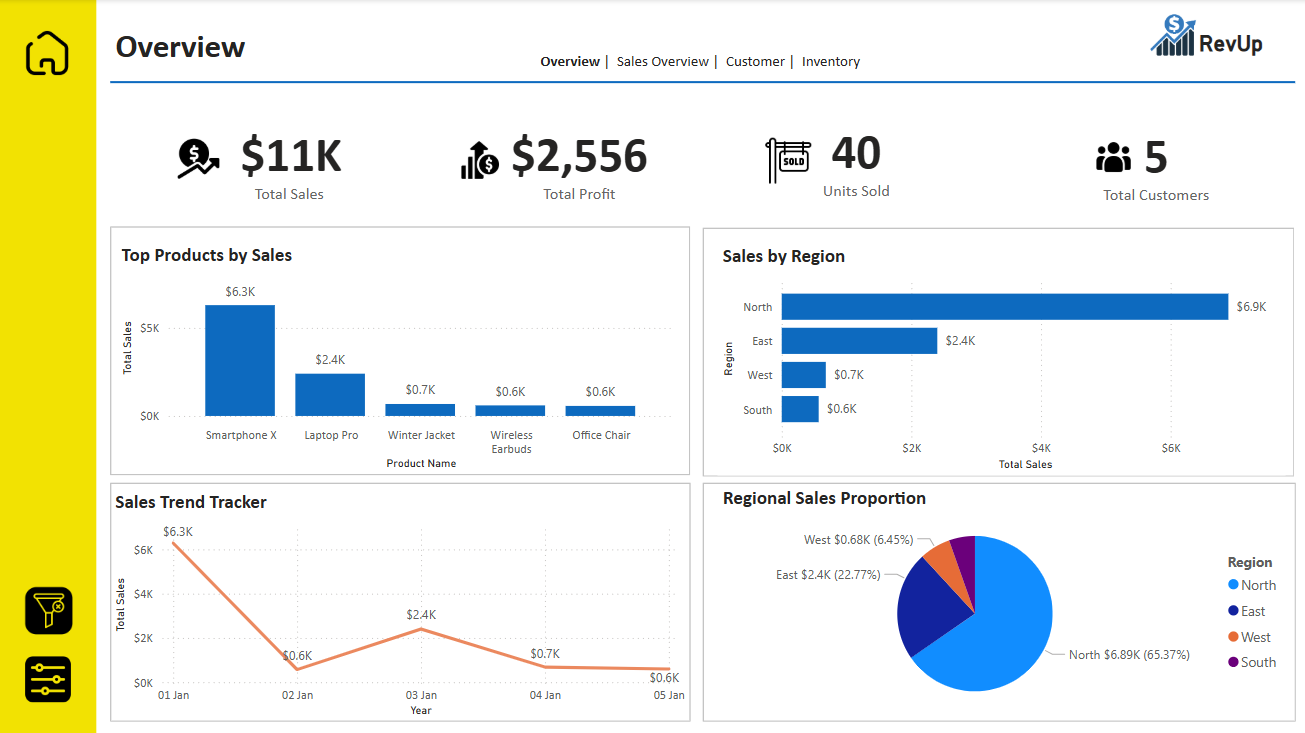

The dashboard page shown, as its layout file describes it:
{"tool":"powerbi","page":{"name":"Overview","canvas":[1280,720],"ordinal":1},"visuals":[{"type":"shape","box":[0,0,95.4,720.2],"z":0},{"type":"image","box":[1016.5,0,264.1,70.9],"z":0,"group":"g1"},{"type":"image","box":[20.9,23.7,52.9,58.4],"z":1000},{"type":"textbox","box":[1169.3,25.7,99,45.2],"z":1000,"group":"g1"},{"type":"textbox","box":[109.1,22,167.5,48.9],"z":2000,"group":"g1"},{"type":"image","box":[18.1,638.6,58.4,54.3],"z":2000},{"type":"group","id":"g1","title":"Visuals","box":[108.8,0,1171.8,706.8],"z":3000},{"type":"shape","box":[109.1,58.7,1159.2,45.2],"z":3000,"group":"g1"},{"type":"card","fields":{"Values":["Sales Data.Total Sales Measure"]},"box":[197.4,102.2,178.4,110.8],"z":4000,"group":"g1"},{"type":"image","box":[170.2,97,50.2,117.8],"z":5000,"group":"g1"},{"type":"image","box":[19,559.3,58.9,79.7],"z":5000},{"type":"card","fields":{"Values":["Sales Data.Profit"]},"box":[465.8,102.7,204.2,111.3],"z":6000,"group":"g1"},{"type":"card","fields":{"Values":["Sum(Sales Data.Units Sold)"]},"box":[722.9,100.3,232.3,110.1],"z":7000,"group":"g1"},{"type":"card","fields":{"Values":["Customer Data.Total Customers"]},"box":[1016.5,103.9,232.3,110.1],"z":8000,"group":"g1"},{"type":"image","box":[447.3,103.9,46.8,107.4],"z":9000,"group":"g1"},{"type":"image","box":[1069,100.4,43.3,109.1],"z":10000,"group":"g1"},{"type":"image","box":[738.2,91.8,67.5,133.3],"z":11000,"group":"g1"},{"type":"columnChart","title":"Top Products by Sales","fields":{"Category":["Sales Data.Product Name"],"Y":["Sum(Sales Data.Total Sales)"]},"box":[115.2,238.5,550.3,227.4],"z":12000,"group":"g1"},{"type":"shape","box":[109.1,222.6,567.4,243.3],"z":13000,"group":"g1"},{"type":"shape","box":[689,224,578.8,243.5],"z":14000,"group":"g1"},{"type":"barChart","title":"Sales by Region","fields":{"Category":["Sales Data.Region"],"Y":["Sum(Sales Data.Total Sales)"]},"box":[702.9,239.3,555.1,226.8],"z":15000,"group":"g1"},{"type":"lineChart","title":"Sales Trend Tracker","fields":{"Y":["Sum(Sales Data.Total Sales)"],"Category":["Sales Data.Date.Variation.Date Hierarchy.Year","Sales Data.Date.Variation.Date Hierarchy.Month","Sales Data.Date.Variation.Date Hierarchy.Day"]},"box":[108.8,480,567.7,226.8],"z":16000,"group":"g1"},{"type":"shape","box":[108.8,473,567.7,233.7],"z":17000,"group":"g1"},{"type":"textbox","box":[525,45.9,340.9,34.8],"z":17500,"group":"g1"},{"type":"pieChart","title":"Regional Sales Proportion","fields":{"Y":["Sum(Sales Data.Total Sales)"],"Category":["Customer Data.Region"]},"box":[702.9,477.2,567.7,226.8],"z":18000,"group":"g1"},{"type":"shape","box":[597.4,40.3,104.3,36.2],"z":18500,"group":"g1"},{"type":"shape","box":[696.2,40.3,79.3,41.7],"z":18750,"group":"g1"},{"type":"shape","box":[689,473,580.2,233.7],"z":19000,"group":"g1"},{"type":"shape","box":[774.9,43.1,79.3,41.7],"z":19250,"group":"g1"}]}

Visuals, with their boxes in screenshot pixels (x1, y1, x2, y2), scaled from the page's 1280x720 canvas onto the 1305x733 screenshot:
shape: crop(0, 0, 97, 732)
image: crop(1036, 0, 1304, 72)
image: crop(21, 24, 75, 84)
textbox: crop(1192, 26, 1293, 72)
textbox: crop(111, 22, 282, 72)
image: crop(18, 650, 78, 705)
"Visuals" group: crop(111, 0, 1304, 720)
shape: crop(111, 60, 1293, 106)
card - Sales Data.Total Sales Measure: crop(201, 104, 383, 217)
image: crop(174, 99, 225, 219)
image: crop(19, 569, 79, 651)
card - Sales Data.Profit: crop(475, 105, 683, 218)
card - Sum(Sales Data.Units Sold): crop(737, 102, 974, 214)
card - Customer Data.Total Customers: crop(1036, 106, 1273, 218)
image: crop(456, 106, 504, 215)
image: crop(1090, 102, 1134, 213)
image: crop(753, 93, 821, 229)
"Top Products by Sales" columnChart: crop(117, 243, 678, 474)
shape: crop(111, 227, 690, 474)
shape: crop(702, 228, 1293, 476)
"Sales by Region" barChart: crop(717, 244, 1283, 475)
"Sales Trend Tracker" lineChart: crop(111, 489, 690, 720)
shape: crop(111, 482, 690, 719)
textbox: crop(535, 47, 883, 82)
"Regional Sales Proportion" pieChart: crop(717, 486, 1295, 717)
shape: crop(609, 41, 715, 78)
shape: crop(710, 41, 791, 83)
shape: crop(702, 482, 1294, 719)
shape: crop(790, 44, 871, 86)
